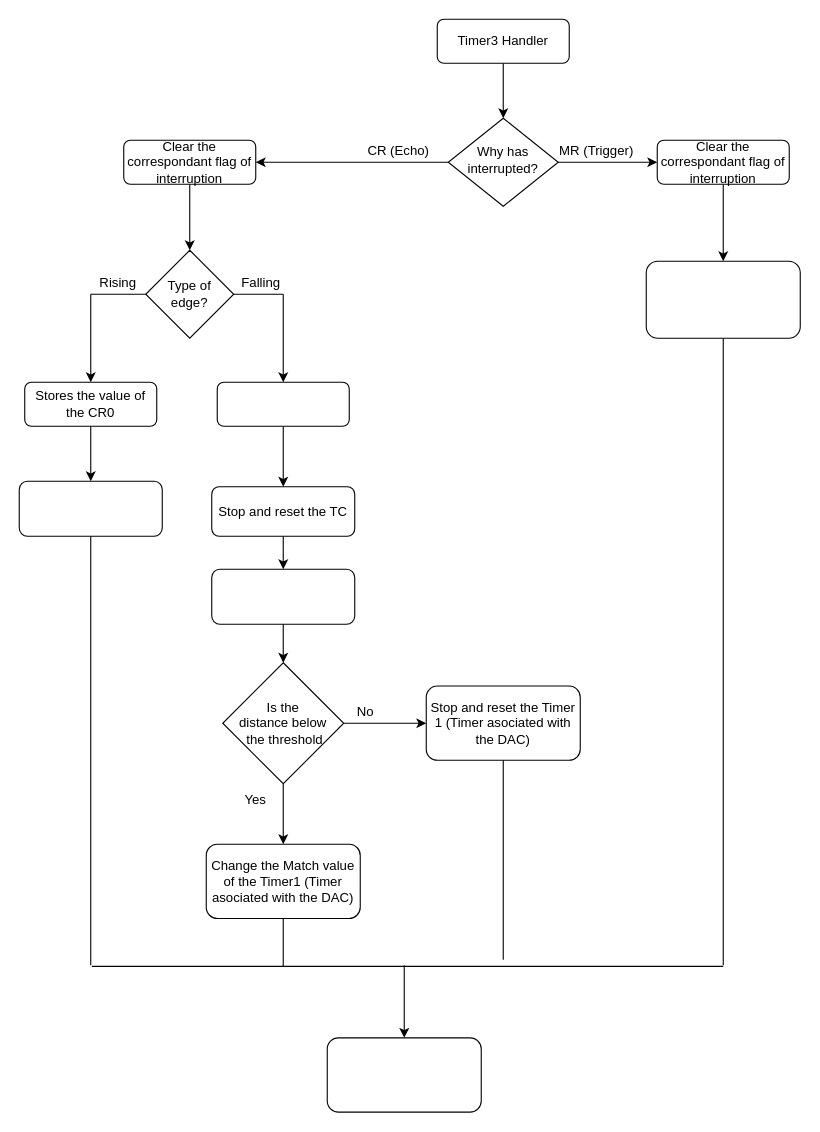
This 820x1132 diagram has some shape labels left out. Each missing label, with the centre of its shape:
Calculate the distance: [282,403]
Configure the CCR to interrupt by falling edge: [90,508]
Configure the CCR to interrupt by rising edge: [283,596]
Next time when te timer reachs the MR3 it does not reset and does not interrupt: [722,299]
Return the control to the sytem.: [403,1074]
